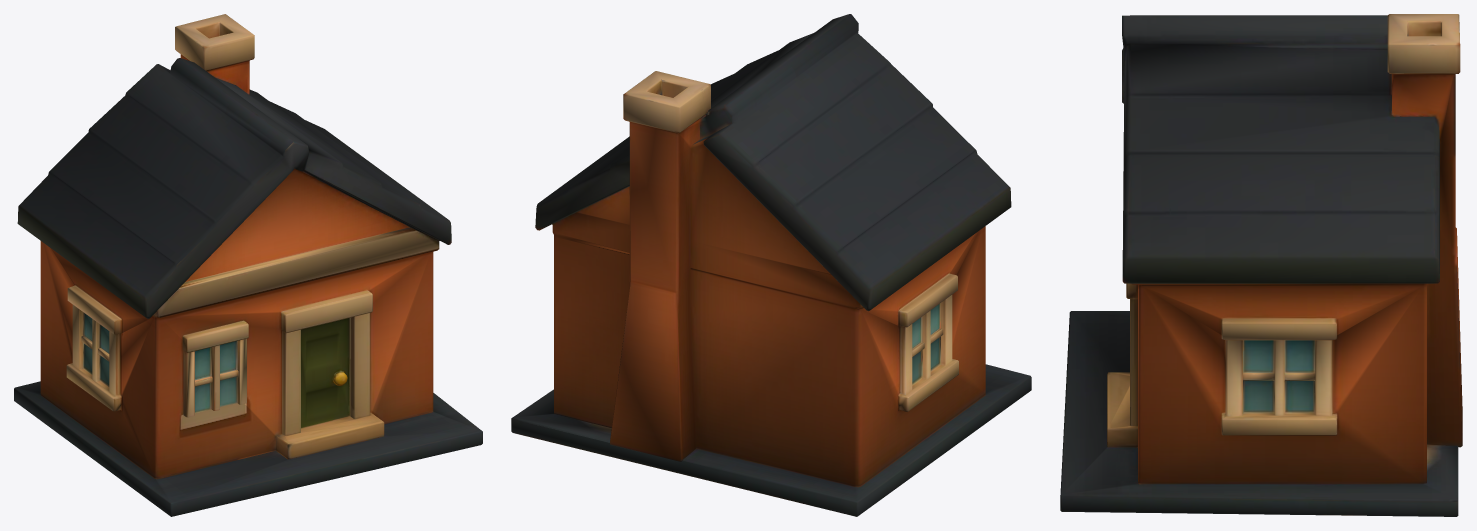
The model's file is glb-2-1024-webp.glb.
3 views of the same model, side by side, from view 1: azimuth 30°, elevation 25°; view 2: azimuth 150°, elevation 25°; view 3: azimuth 270°, elevation 25° (orthographic). The views are drawn at different scales.
Parts seen in each view (by area): view 1: material; view 2: material; view 3: material.
Part boxes in pixels (x1,y1,x2,y2): material: [14, 14, 482, 516]; material: [511, 14, 1031, 516]; material: [1060, 14, 1462, 516].
Size of the model in its own units: 1.9 by 1.9 by 1.68.
Materials: 1 (1 with a texture image).
